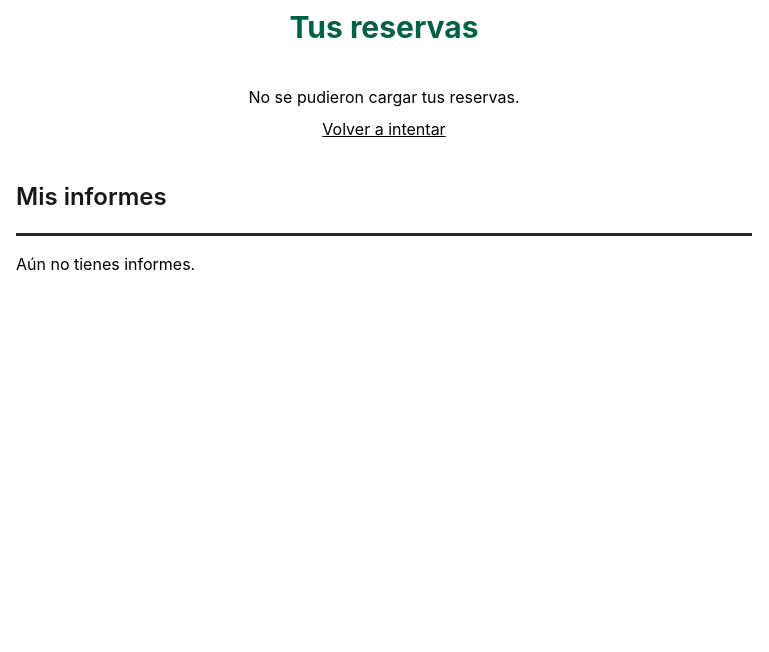
Test: TusReservas › muestra un error de carga y permite reintentar
Check: the message shows "No se pudieron cargar tus reservas", box [248,87,520,107]
Click the button "Volver a intentar" at (384, 129), box [322,117,446,141]
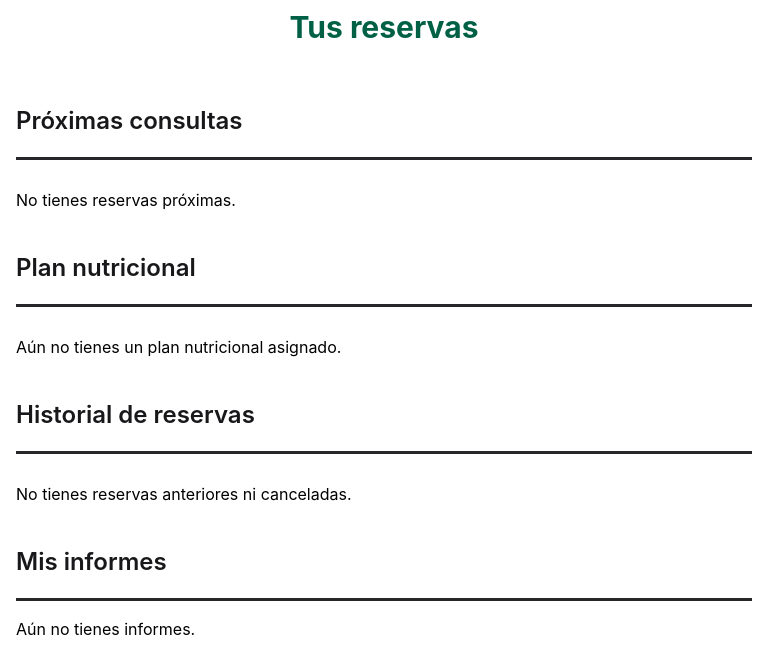
Check: the text "No tienes reservas próximas." is shown, box [16,190,236,210]
